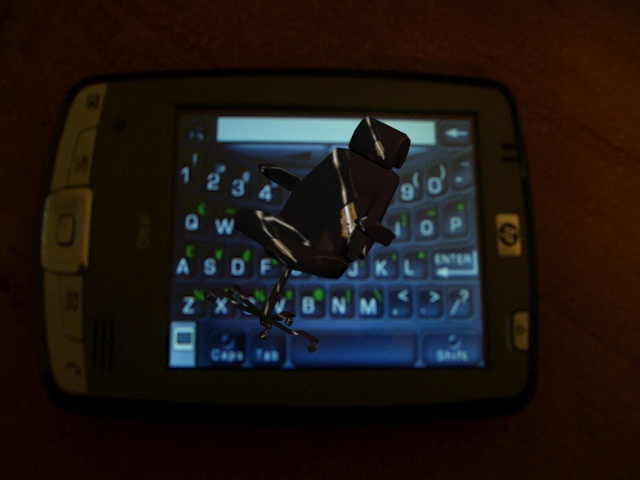desk_chair: (201, 113, 416, 360)
